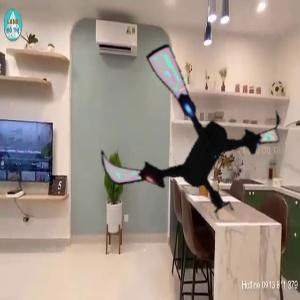drone: (93, 39, 283, 229)
